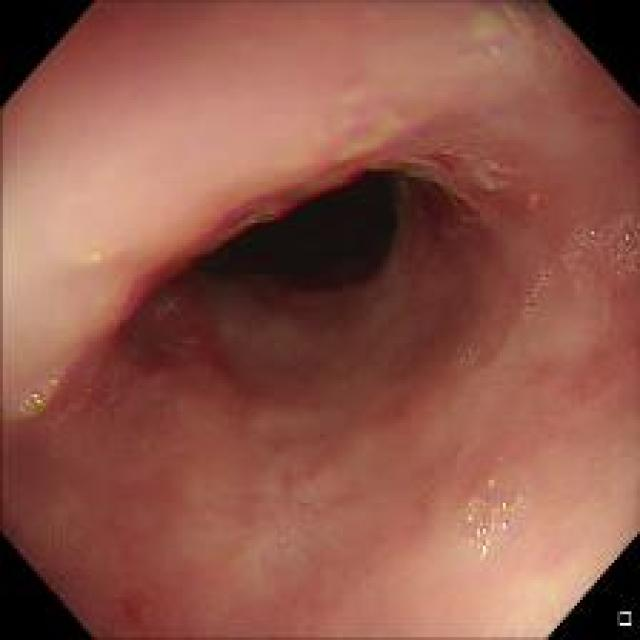bubbles: (454, 456, 536, 572), (576, 208, 636, 279), (12, 372, 66, 418), (69, 374, 121, 415), (266, 521, 300, 561), (42, 514, 81, 545), (116, 315, 144, 345), (511, 298, 539, 321), (535, 260, 552, 286), (565, 231, 576, 270), (454, 345, 476, 362)
color misalignment: (319, 114, 482, 180), (470, 6, 576, 65)
contrast: (190, 159, 398, 298)
specularity: (480, 544, 488, 556), (465, 512, 474, 521), (501, 514, 506, 529), (488, 480, 495, 488)
